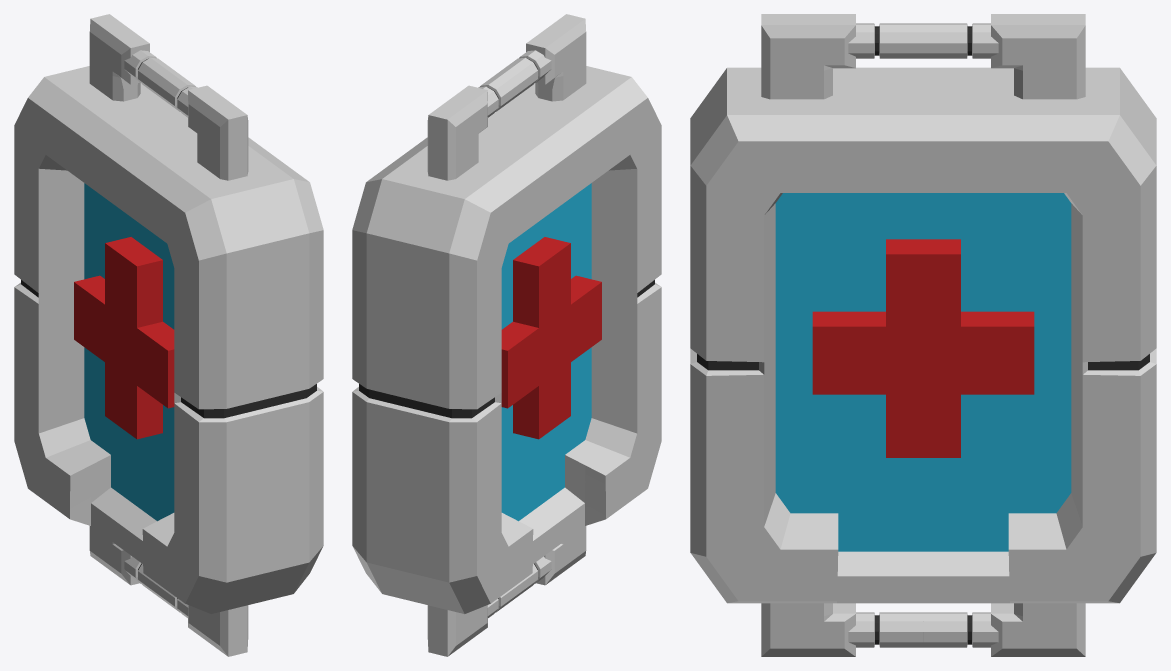
The model's file is MedPack.fbx.
3 renders of one model, left to right at view 1: azimuth 30°, elevation 25°; view 2: azimuth 150°, elevation 25°; view 3: azimuth 270°, elevation 25°, orthographic. The views are drawn at different scales.
Visible parts, largest first — view 1: Plane.001; view 2: Plane.001; view 3: Plane.001.
Boxes of the visible parts, x1,y1,x2,y2 form: Plane.001: (14,14,323,656); Plane.001: (352,14,661,656); Plane.001: (690,14,1156,656).
Bounding box in the file's own units: 26.53 × 109 × 72.89.
